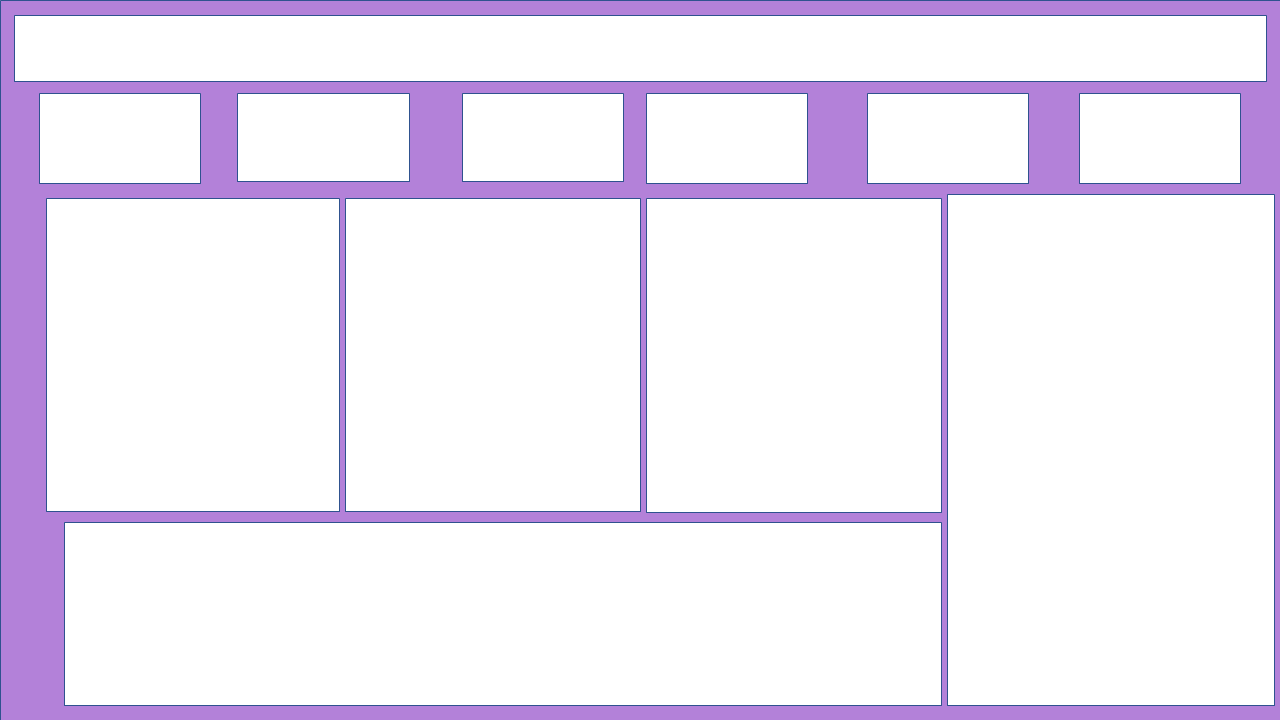

The dashboard page shown, as its layout file describes it:
{"tool":"powerbi","page":{"name":"Page 1","canvas":[1280,720],"ordinal":0},"visuals":[{"type":"card","fields":{"Values":["Sheet1.Total Clicks"]},"box":[48,96,144,80],"z":0},{"type":"card","fields":{"Values":["Sheet1.Total Spent"]},"box":[240,96,160,80],"z":1000},{"type":"card","fields":{"Values":["Sheet1.Total CImpressions"]},"box":[464,96,144,80],"z":2000},{"type":"card","fields":{"Values":["Sheet1.Average CPC"]},"box":[656,96,144,80],"z":3000},{"type":"card","fields":{"Values":["Sheet1.Average CTR"]},"box":[880,96,144,80],"z":4000},{"type":"card","fields":{"Values":["Sheet1.ROI"]},"box":[1088,96,144,80],"z":5000},{"type":"barChart","title":"Clicks by fb_campaign_id","fields":{"Y":["Sum(Sheet1.clicks)"],"Category":["Sheet1.fb_campaign_id"]},"box":[48,208,288,304],"z":6000},{"type":"columnChart","title":"Conversion by Gender","fields":{"Category":["Sheet1.gender"],"Y":["Sum(Sheet1.total_conversion)"]},"box":[352,208,288,304],"z":7000},{"type":"lineChart","title":"Clicks and Sum of  Spents  Over Time","fields":{"Y":["Sum(Sheet1.clicks)","Sum(Sheet1. spent )"],"Category":["Sheet1.reporting_start"]},"box":[656,208,272,304],"z":8000},{"type":"image","box":[48,16,352,64],"z":9000},{"type":"textbox","box":[400,16,704,64],"z":10000},{"type":"textbox","title":"Key Insights & Recomendatuins","box":[80,528,816,32],"z":11000},{"type":"textbox","title":"Key Insights & Recomendatuins","box":[464,560,416,64],"z":12000},{"type":"textbox","title":"Key Insights & Recomendatuins","box":[464,624,432,64],"z":13000},{"type":"textbox","title":"Key Insights & Recomendatuins","box":[80,624,384,64],"z":14000},{"type":"textbox","title":"Key Insights & Recomendatuins","box":[80,560,384,64],"z":15000},{"type":"slicer","fields":{"Values":["Sheet1.gender"]},"box":[1104,336,160,160],"z":16000},{"type":"slicer","fields":{"Values":["Sheet1.age"]},"box":[960,336,128,160],"z":17000},{"type":"slicer","fields":{"Values":["Sheet1.fb_campaign_id"]},"box":[1104,512,160,176],"z":18000},{"type":"slicer","fields":{"Values":["Sheet1.Interest Category"]},"box":[960,512,128,176],"z":19000},{"type":"slicer","fields":{"Values":["Sheet1.reporting_start"]},"box":[960,208,288,112],"z":20000}]}

Visuals, with their boxes in screenshot pixels (x1, y1, x2, y2), scaled from the page's 1280x720 canvas onto the 1280x720 screenshot:
card - Sheet1.Total Clicks: select_region(48, 96, 192, 176)
card - Sheet1.Total Spent: select_region(240, 96, 400, 176)
card - Sheet1.Total CImpressions: select_region(464, 96, 608, 176)
card - Sheet1.Average CPC: select_region(656, 96, 800, 176)
card - Sheet1.Average CTR: select_region(880, 96, 1024, 176)
card - Sheet1.ROI: select_region(1088, 96, 1232, 176)
"Clicks by fb_campaign_id" barChart: select_region(48, 208, 336, 512)
"Conversion by Gender" columnChart: select_region(352, 208, 640, 512)
"Clicks and Sum of  Spents  Over Time" lineChart: select_region(656, 208, 928, 512)
image: select_region(48, 16, 400, 80)
textbox: select_region(400, 16, 1104, 80)
"Key Insights & Recomendatuins" textbox: select_region(80, 528, 896, 560)
"Key Insights & Recomendatuins" textbox: select_region(464, 560, 880, 624)
"Key Insights & Recomendatuins" textbox: select_region(464, 624, 896, 688)
"Key Insights & Recomendatuins" textbox: select_region(80, 624, 464, 688)
"Key Insights & Recomendatuins" textbox: select_region(80, 560, 464, 624)
slicer - Sheet1.gender: select_region(1104, 336, 1264, 496)
slicer - Sheet1.age: select_region(960, 336, 1088, 496)
slicer - Sheet1.fb_campaign_id: select_region(1104, 512, 1264, 688)
slicer - Sheet1.Interest Category: select_region(960, 512, 1088, 688)
slicer - Sheet1.reporting_start: select_region(960, 208, 1248, 320)
